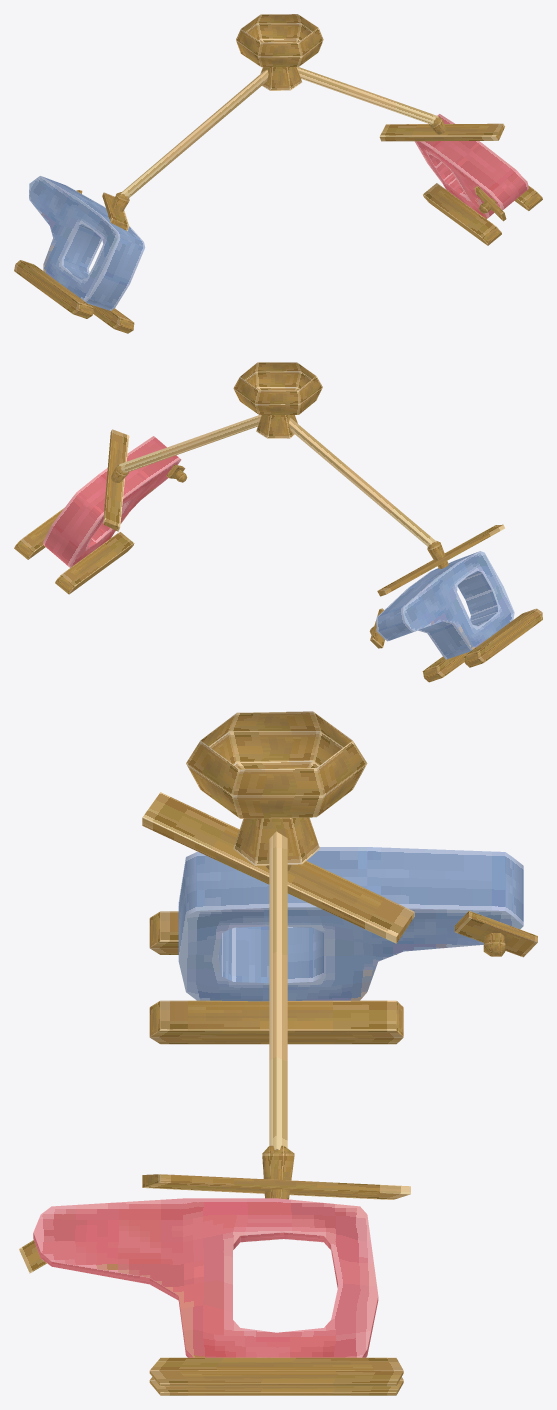
File: heri25.glb
3 views of the same model, one above another, from view 1: azimuth 30°, elevation 25°; view 2: azimuth 150°, elevation 25°; view 3: azimuth 270°, elevation 25° (orthographic). The views are drawn at different scales.
Visible parts, largest first — view 1: heri25; view 2: heri25; view 3: heri25.
Boxes of the visible parts, x1,y1,x2,y2 form: heri25: (14,14,542,333); heri25: (14,362,542,682); heri25: (19,711,537,1395).
Bounding box in the file's own units: 299 × 146 × 143.
2 materials, 2 textured.
